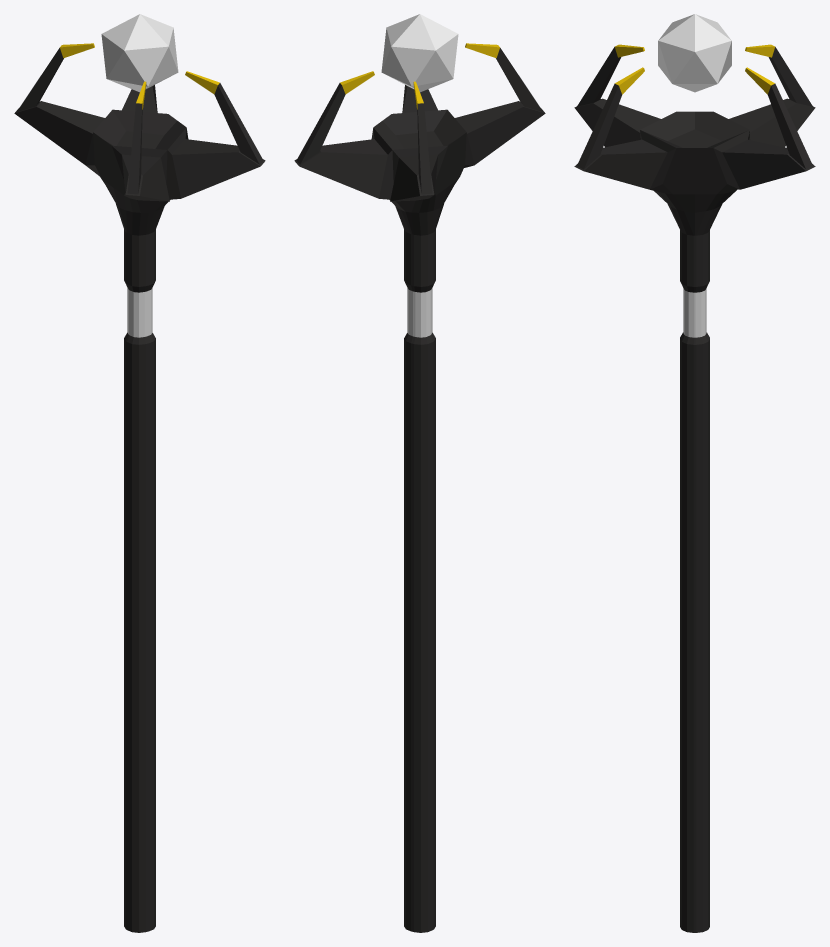
The model's file is BastonX4.fbx.
The picture shows the model from 3 angles, left to right: view 1: azimuth 30°, elevation 25°; view 2: azimuth 150°, elevation 25°; view 3: azimuth 270°, elevation 25°; orthographic projection.
Visible parts, largest first — view 1: Cube, Icosphere; view 2: Cube, Icosphere; view 3: Cube, Icosphere.
Part boxes in pixels (x1,y1,x2,y2): Cube: (14,43,265,932); Icosphere: (101,14,178,92); Cube: (294,43,545,932); Icosphere: (381,14,458,92); Cube: (574,44,815,932); Icosphere: (658,14,731,92).
Size of the model in its own units: 374 by 2324 by 557.
